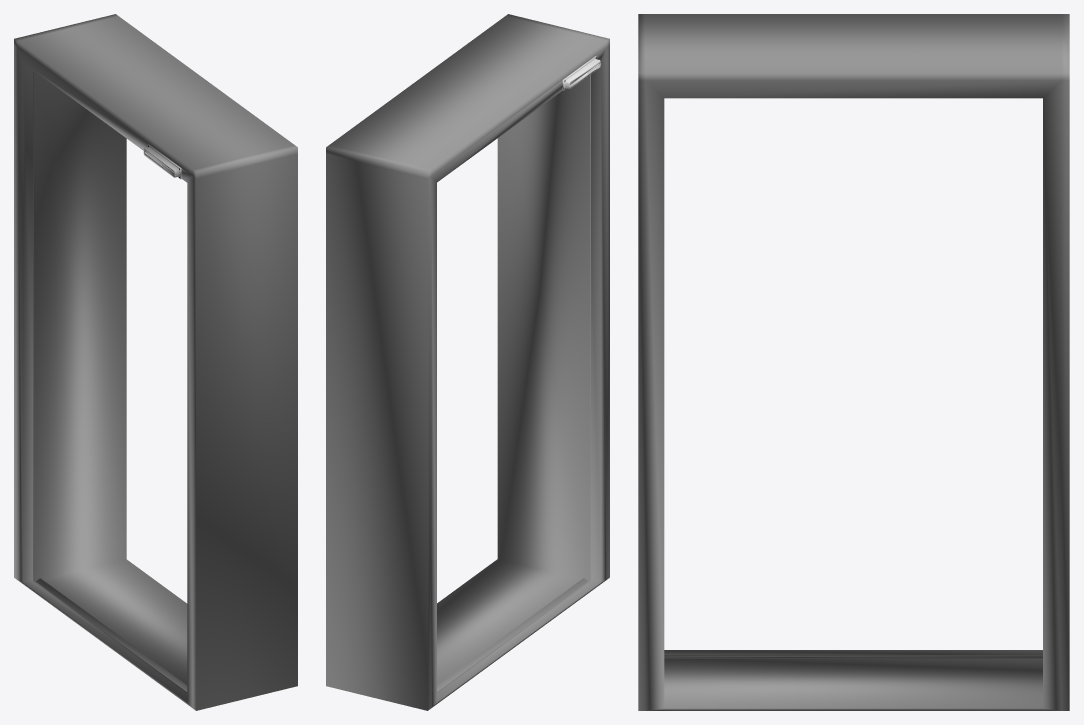
The model's file is StahlZarge.fbx.
3 views of the same model, side by side, from view 1: azimuth 30°, elevation 25°; view 2: azimuth 150°, elevation 25°; view 3: azimuth 270°, elevation 25° (orthographic). The views are drawn at different scales.
Visible parts, largest first — view 1: StahlZarge; view 2: StahlZarge; view 3: StahlZarge.
Part boxes in pixels (x1=…): StahlZarge: x1=14, y1=14, x2=297, y2=710; StahlZarge: x1=326, y1=14, x2=609, y2=710; StahlZarge: x1=638, y1=14, x2=1069, y2=710.
Bounding box in the file's own units: 42.39 × 203 × 124.
2 materials, 2 textured.
